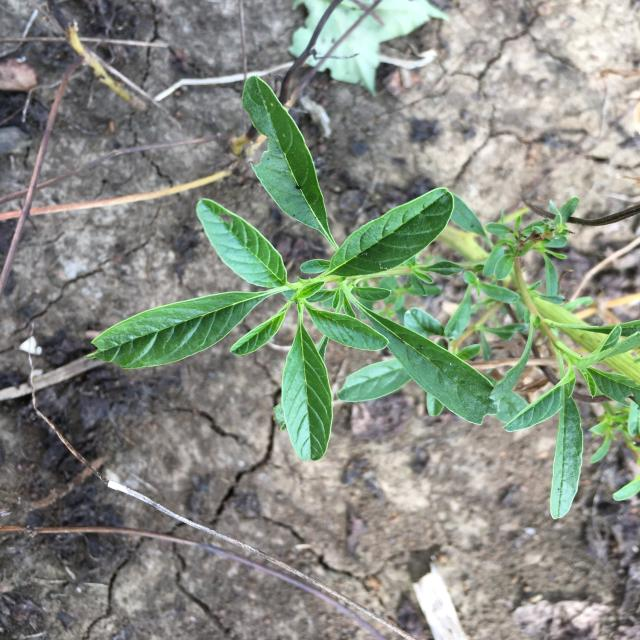Waterhemp: (86, 75, 640, 519)
